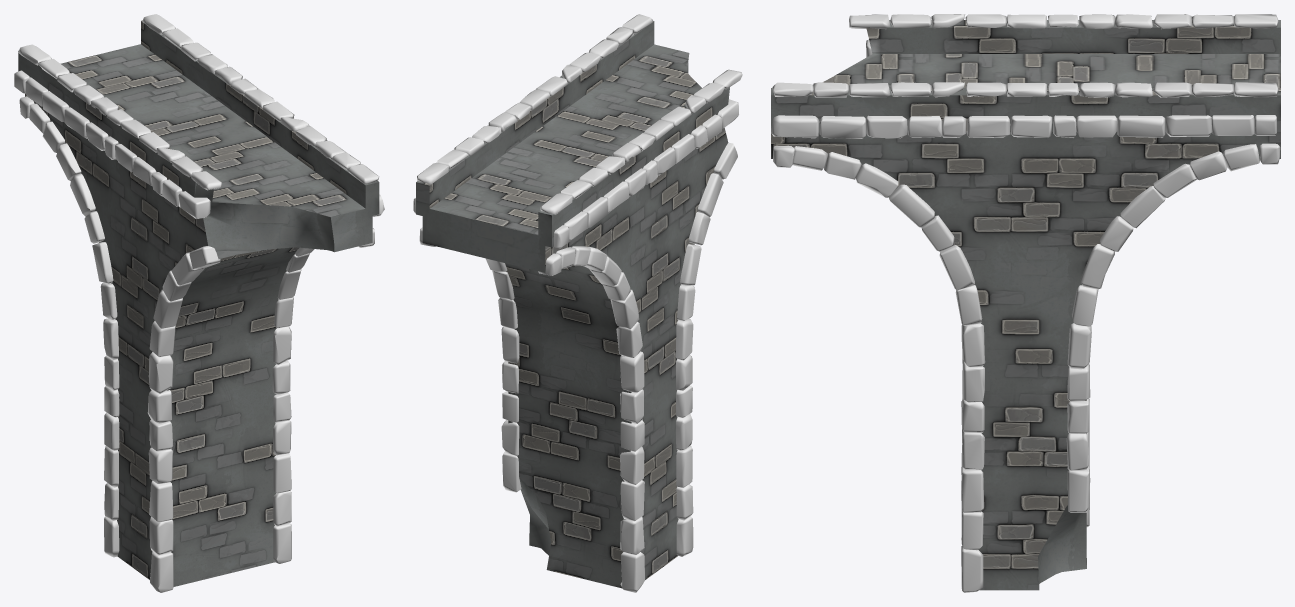
File: SM_Bridge_Full_Broken_01.fbx
The picture shows the model from 3 angles, left to right: view 1: azimuth 30°, elevation 25°; view 2: azimuth 150°, elevation 25°; view 3: azimuth 270°, elevation 25°; orthographic projection. The views are drawn at different scales.
Visible parts, largest first — view 1: Bridge_Full_Broken_01_LOD0; view 2: Bridge_Full_Broken_01_LOD0; view 3: Bridge_Full_Broken_01_LOD0.
Boxes of the visible parts, x1,y1,x2,y2 form: Bridge_Full_Broken_01_LOD0: (14, 14, 384, 592); Bridge_Full_Broken_01_LOD0: (413, 14, 742, 592); Bridge_Full_Broken_01_LOD0: (771, 14, 1280, 592).
Size of what is drawn, in the model's own units: 5.44 by 15.37 by 14.01.
